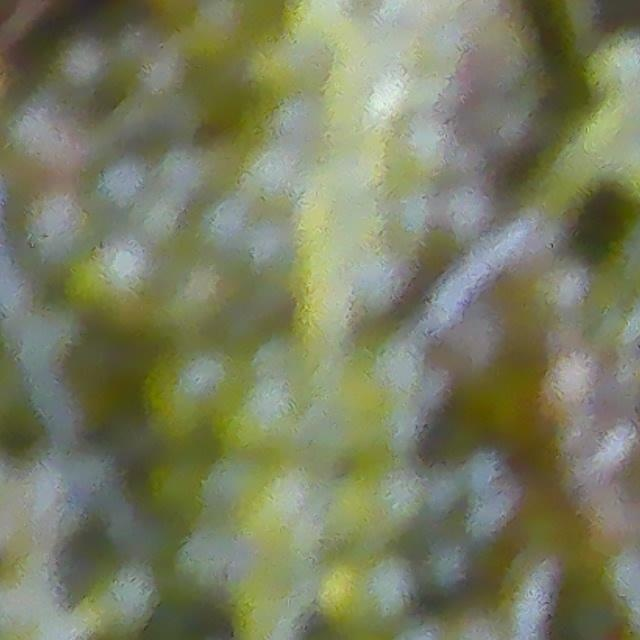SeaGrape: (141, 346, 238, 440), (75, 240, 156, 317), (29, 189, 92, 255)
